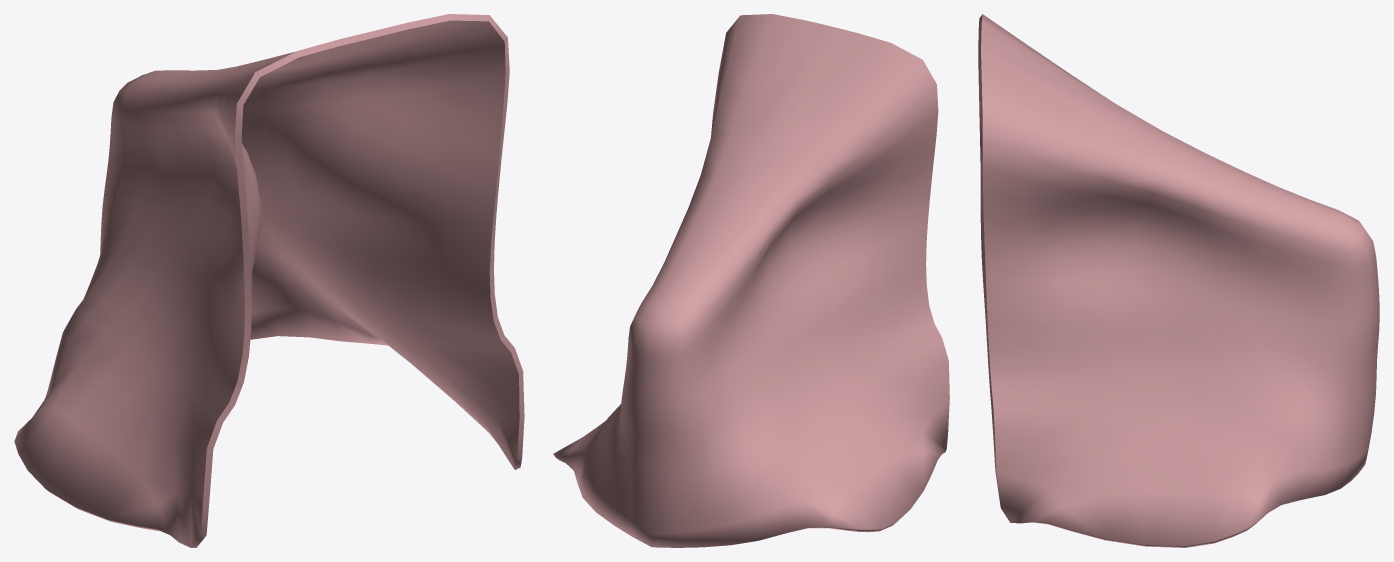
The picture shows the model from 3 angles, left to right: view 1: azimuth 30°, elevation 25°; view 2: azimuth 150°, elevation 25°; view 3: azimuth 270°, elevation 25°; orthographic projection. The views are drawn at different scales.
Visible parts, largest first — view 1: ZA_e860ed1d9abfea1f; view 2: ZA_e860ed1d9abfea1f; view 3: ZA_e860ed1d9abfea1f.
Boxes of the visible parts, x1,y1,x2,y2 form: ZA_e860ed1d9abfea1f: (14, 14, 524, 547); ZA_e860ed1d9abfea1f: (553, 14, 949, 547); ZA_e860ed1d9abfea1f: (978, 14, 1379, 547).
Bounding box in the file's own units: 0.035 × 0.0411 × 0.0358.
